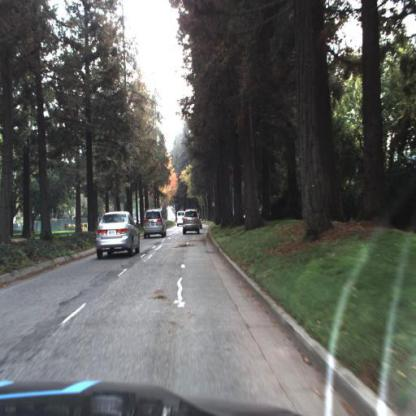car: (93, 209, 142, 257), (141, 208, 167, 240), (180, 208, 202, 236), (175, 209, 187, 230), (176, 206, 186, 228)
